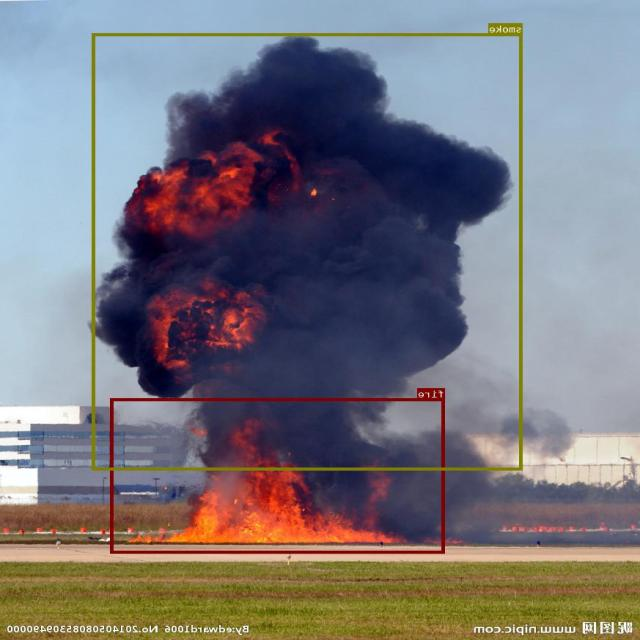fire: (111, 398, 445, 552)
smoke: (93, 32, 523, 470)
